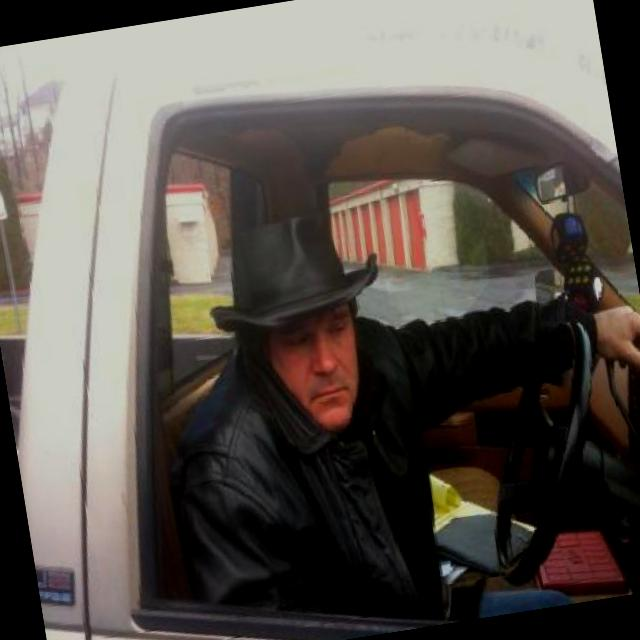Person: (141, 157, 640, 640)
